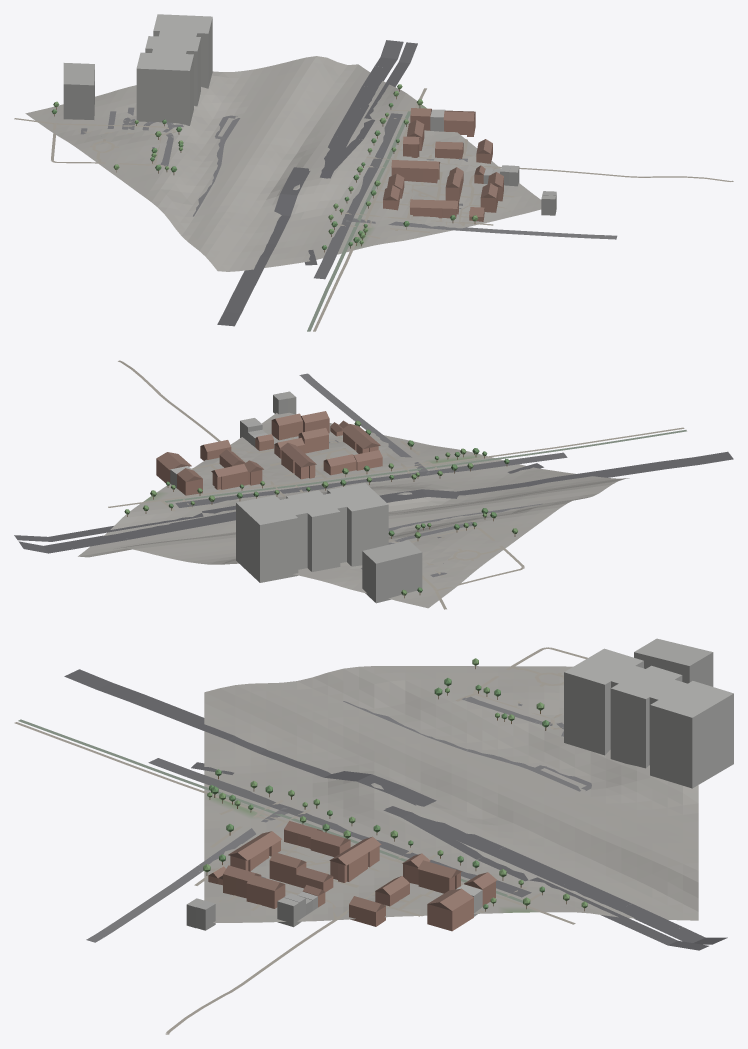
The model's file is tile_-7_5.glb.
3 views of the same model, one above another, from view 1: azimuth 30°, elevation 25°; view 2: azimuth 150°, elevation 25°; view 3: azimuth 270°, elevation 25° (orthographic). The views are drawn at different scales.
Visible parts, largest first — view 1: terrain, buildings, roads, props; view 2: terrain, buildings, roads, props; view 3: terrain, buildings, roads, props.
Part boxes in pixels (x1,y1,x2,y2): terrain: (25, 56, 541, 271); buildings: (63, 14, 556, 221); roads: (14, 40, 733, 331); props: (51, 84, 478, 252); terrain: (78, 412, 629, 608); buildings: (156, 391, 422, 603); roads: (14, 360, 733, 609); props: (124, 420, 517, 598); terrain: (204, 666, 698, 922); buildings: (186, 638, 733, 931); roads: (14, 647, 727, 1034); props: (203, 658, 587, 911).
Size of the model in its own units: 423 by 67.81 by 373.
